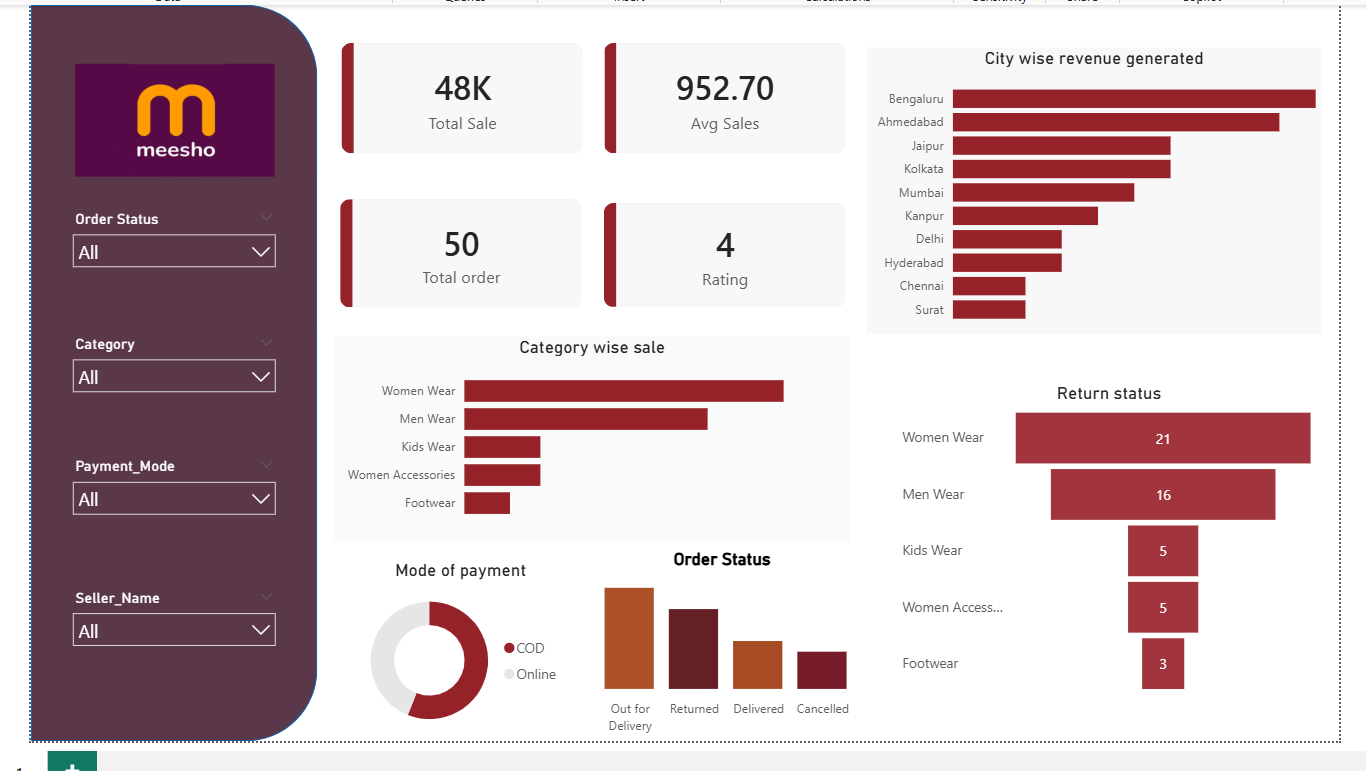

What the dashboard file says about the page in this screenshot:
{"tool":"powerbi","page":{"name":"Page 1","canvas":[1280,720],"ordinal":0},"visuals":[{"type":"shape","box":[0,0,280,720.2],"z":0},{"type":"image","box":[39.1,57.5,203,110.1],"z":1000},{"type":"cardVisual","fields":{"Data":["meesho_order_data_2025_50rows.Measure 3"]},"box":[538,14.7,280,152.9],"z":2000},{"type":"cardVisual","fields":{"Data":["meesho_order_data_2025_50rows.Measure 2"]},"box":[281.3,14.7,280,152.9],"z":3000},{"type":"cardVisual","fields":{"Data":["meesho_order_data_2025_50rows.Measure 4"]},"box":[280,167.5,280,150.4],"z":4000},{"type":"cardVisual","fields":{"Data":["meesho_order_data_2025_50rows.Measure 5"]},"box":[537.5,171.2,280,146.2],"z":5000},{"type":"barChart","title":" Category wise sale","fields":{"Category":["meesho_order_data_2025_50rows.Category"],"Y":["CountNonNull(meesho_order_data_2025_50rows.Customer_ID)"]},"box":[297.1,324.1,503.8,200.5],"z":6000},{"type":"donutChart","title":"Mode of payment","fields":{"Category":["meesho_order_data_2025_50rows.Payment_Mode"],"Y":["CountNonNull(meesho_order_data_2025_50rows.total revenue)"]},"box":[312.8,542.4,214.7,177.5],"z":7000},{"type":"barChart","title":"City wise revenue generated","fields":{"Category":["meesho_order_data_2025_50rows.Customer_City"],"Y":["CountNonNull(meesho_order_data_2025_50rows.total revenue)"]},"box":[818.1,41.6,443.9,280],"z":8000},{"type":"columnChart","title":" Order Status","fields":{"Category":["meesho_order_data_2025_50rows.Order_Status"],"Y":["CountNonNull(meesho_order_data_2025_50rows.total revenue)"]},"box":[522.1,531.9,308.2,188.3],"z":9000},{"type":"funnel","title":" Return status ","fields":{"Category":["meesho_order_data_2025_50rows.Category"],"Y":["CountNonNull(meesho_order_data_2025_50rows.Return_Status)"]},"box":[847.4,369.3,414.5,310.6],"z":10000},{"type":"slicer","fields":{"Values":["meesho_order_data_2025_50rows.Order_Status"]},"box":[30.6,195.7,218.9,70.9],"z":11000},{"type":"slicer","fields":{"Values":["meesho_order_data_2025_50rows.Category"]},"box":[30.6,317.9,218.9,70.9],"z":11500},{"type":"slicer","fields":{"Values":["meesho_order_data_2025_50rows.Seller_Name"]},"box":[30.6,566.2,218.9,70.9],"z":12000},{"type":"slicer","fields":{"Values":["meesho_order_data_2025_50rows.Payment_Mode"]},"box":[30.6,437.8,218.9,70.9],"z":13000}]}

Visuals, with their boxes on the page's 1280x720 design canvas (x1, y1, x2, y2). These are canvas units, not pixel positions in the 1366x771 screenshot, which may show the page scaled, cropped or inside an application window:
shape: bbox=(0, 0, 280, 720)
image: bbox=(39, 58, 242, 168)
cardVisual - meesho_order_data_2025_50rows.Measure 3: bbox=(538, 15, 818, 168)
cardVisual - meesho_order_data_2025_50rows.Measure 2: bbox=(281, 15, 561, 168)
cardVisual - meesho_order_data_2025_50rows.Measure 4: bbox=(280, 168, 560, 318)
cardVisual - meesho_order_data_2025_50rows.Measure 5: bbox=(538, 171, 818, 317)
" Category wise sale" barChart: bbox=(297, 324, 801, 525)
"Mode of payment" donutChart: bbox=(313, 542, 528, 720)
"City wise revenue generated" barChart: bbox=(818, 42, 1262, 322)
" Order Status" columnChart: bbox=(522, 532, 830, 720)
" Return status " funnel: bbox=(847, 369, 1262, 680)
slicer - meesho_order_data_2025_50rows.Order_Status: bbox=(31, 196, 250, 267)
slicer - meesho_order_data_2025_50rows.Category: bbox=(31, 318, 250, 389)
slicer - meesho_order_data_2025_50rows.Seller_Name: bbox=(31, 566, 250, 637)
slicer - meesho_order_data_2025_50rows.Payment_Mode: bbox=(31, 438, 250, 509)
